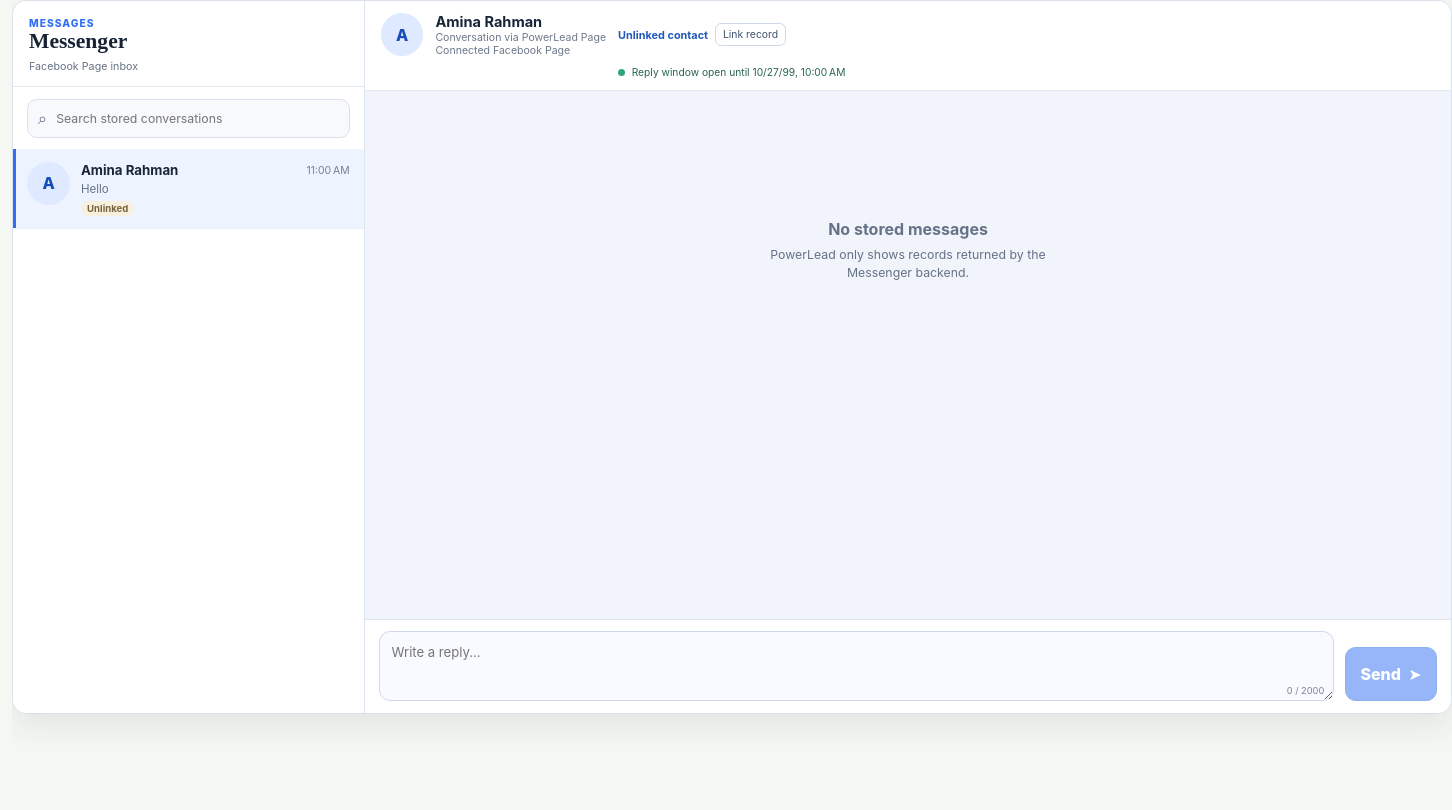
Test case: MessengerInboxComponent › preserves the draft on structured definitive failure
This screenshot has width=1452, height=810.
Type "Do not discard" into the text box labelled "0 / 2000" at (856,666), box [379,631,1334,701]
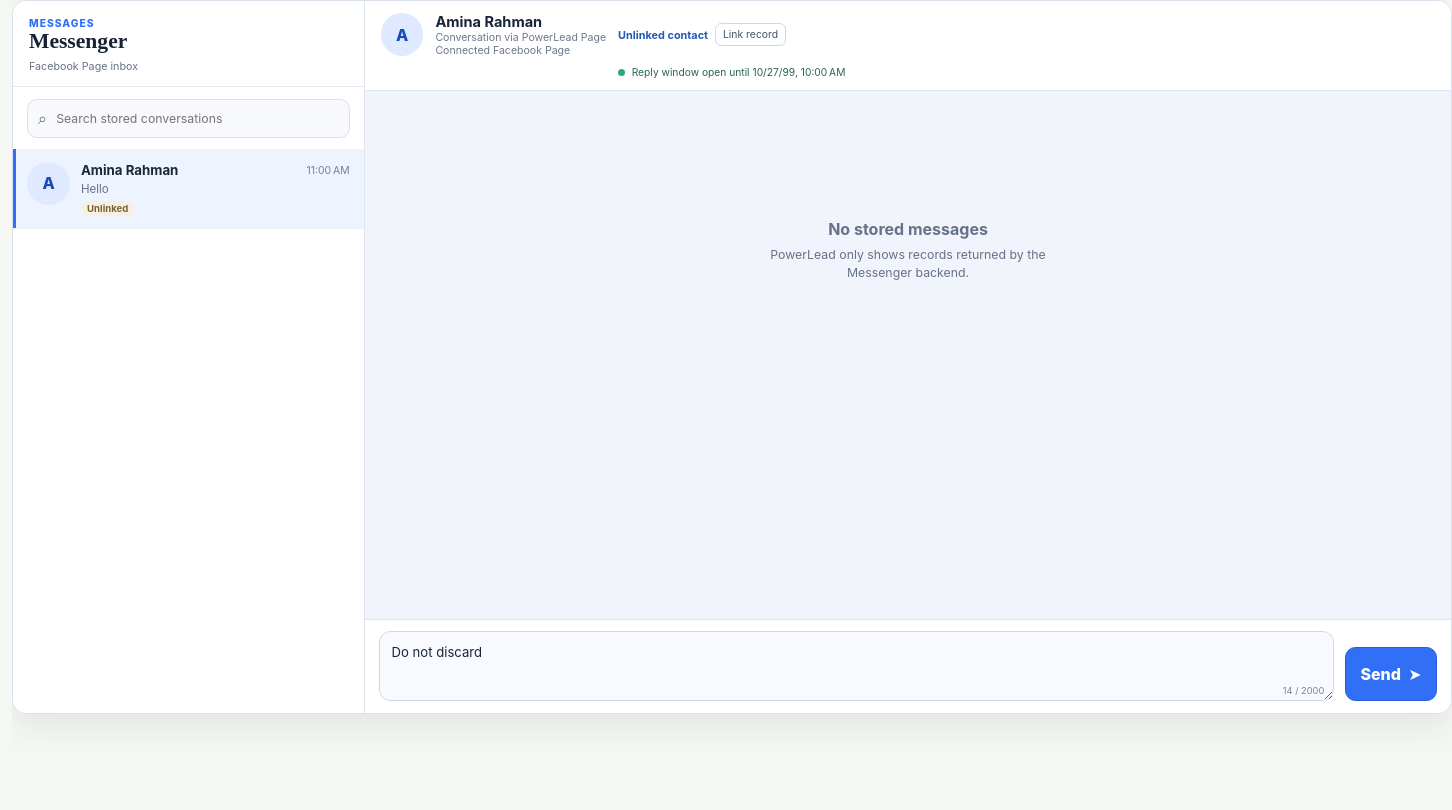
Click the button "Send ➤" at (1391,674), box [1345,647,1437,701]
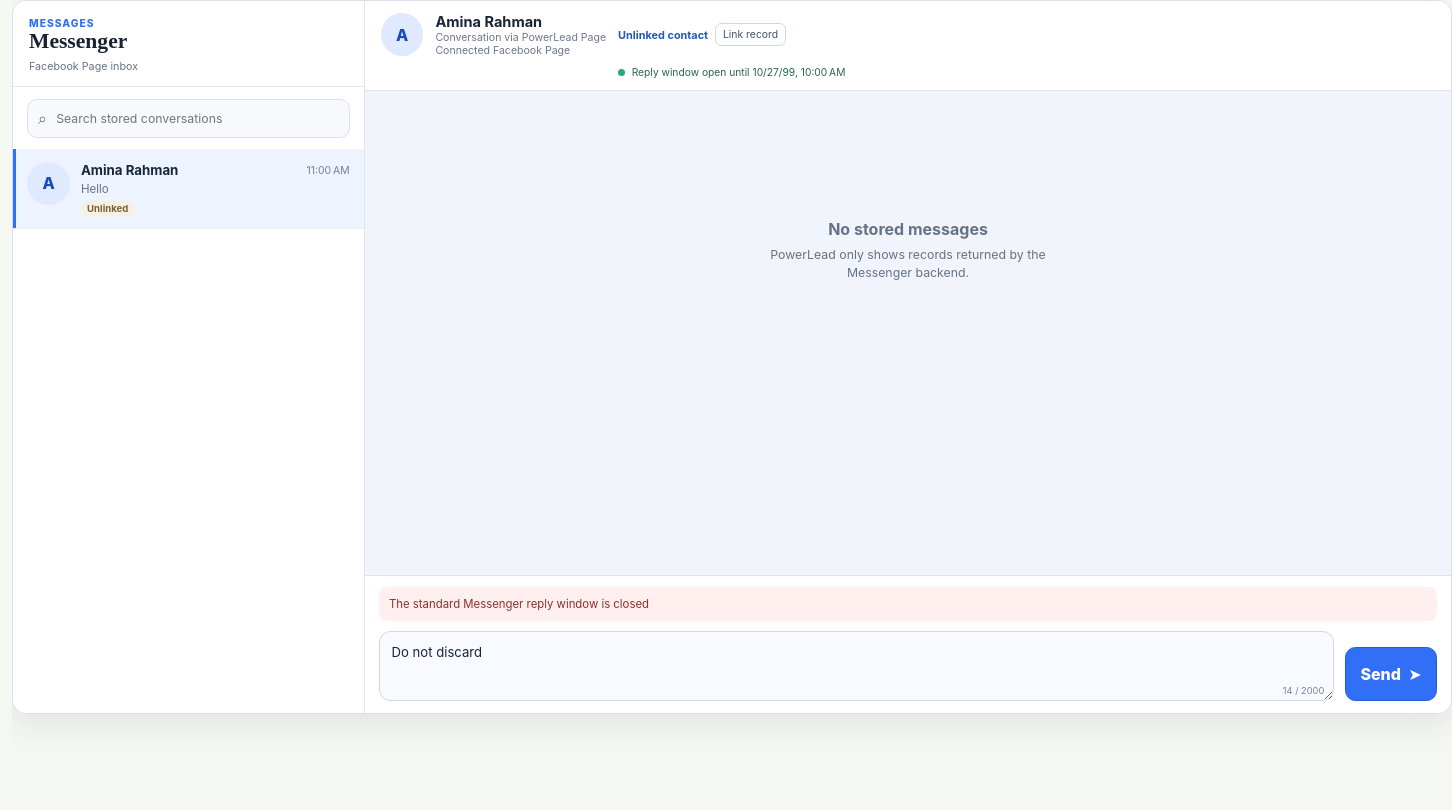
Expected: the text "The standard Messenger reply window is closed" is shown, [389,596,649,613]
